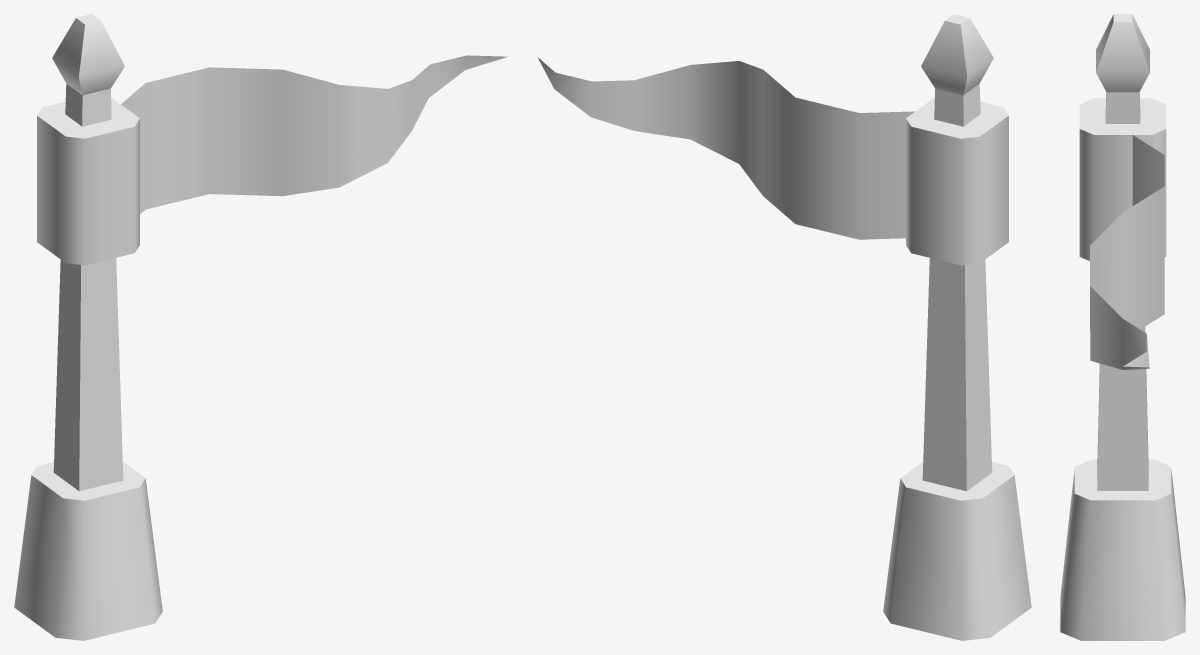
Rendered from flag-pennant.glb.
The picture shows the model from 3 angles, left to right: view 1: azimuth 30°, elevation 25°; view 2: azimuth 150°, elevation 25°; view 3: azimuth 270°, elevation 25°; orthographic projection.
Parts seen in each view (by area): view 1: flag-pennant; view 2: flag-pennant; view 3: flag-pennant.
Part boxes in pixels (x1,y1,x2,y2): flag-pennant: (14, 14, 507, 640); flag-pennant: (538, 14, 1031, 640); flag-pennant: (1060, 14, 1185, 640).
Size of the model in its own units: 1.76 by 2.1 by 0.3988.
Materials: 1 (1 with a texture image).
